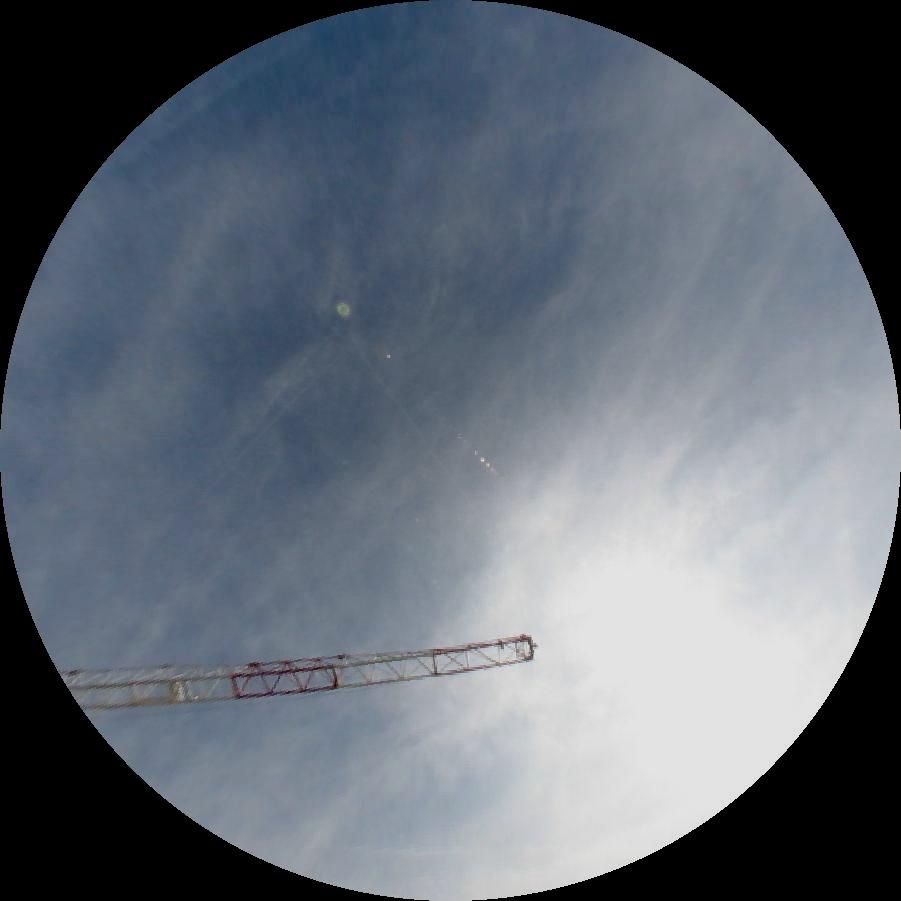contrail young: (181, 350, 344, 521)
